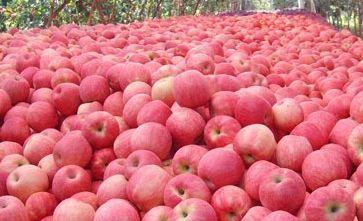apple: (259, 168, 306, 213), (126, 164, 170, 211), (197, 147, 245, 189), (233, 122, 277, 167), (304, 183, 355, 221), (302, 149, 348, 190), (7, 163, 51, 204), (128, 121, 171, 159), (164, 174, 211, 207), (80, 111, 120, 149), (164, 107, 205, 144), (52, 134, 93, 170), (172, 70, 211, 107), (52, 163, 92, 199), (275, 133, 314, 169), (211, 185, 251, 219), (269, 97, 304, 134), (202, 115, 240, 149), (235, 94, 274, 126), (171, 144, 210, 176), (124, 149, 163, 180), (51, 81, 81, 117), (1, 74, 31, 104), (1, 193, 25, 220)
